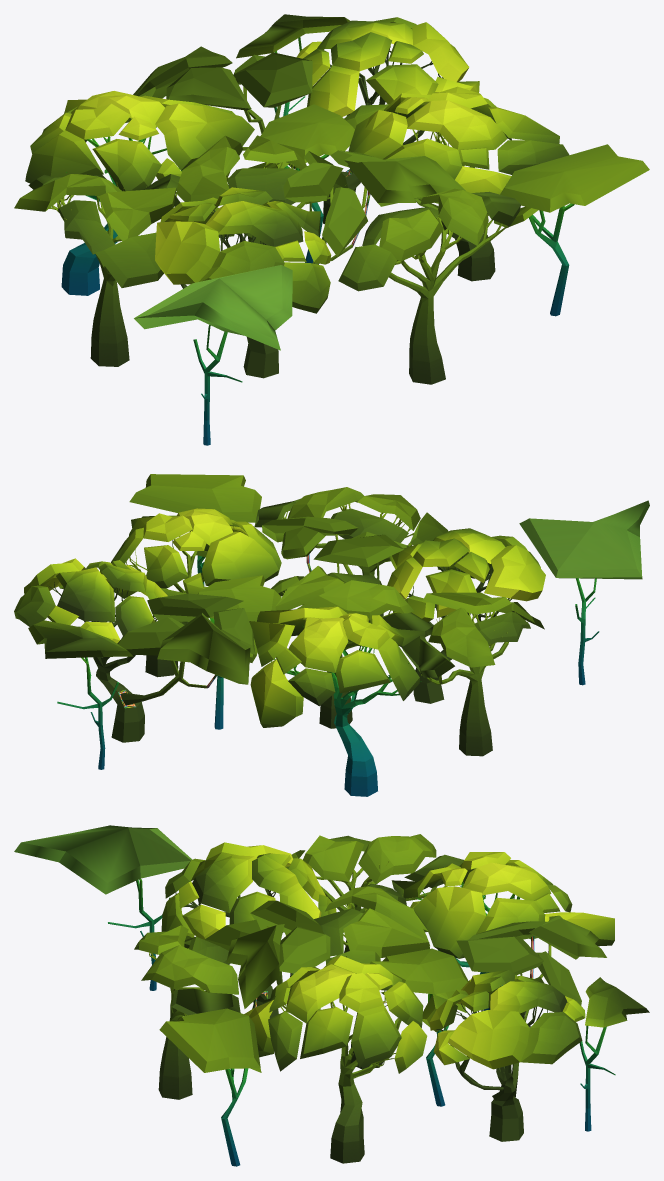
Rendered from Tree Cluster.fbx.
3 views of the same model, one above another, from view 1: azimuth 30°, elevation 25°; view 2: azimuth 150°, elevation 25°; view 3: azimuth 270°, elevation 25° (orthographic). The views are drawn at different scales.
Parts seen in each view (by area): view 1: leaves (×11), stam (×7), Stam; view 2: leaves (×11), stam (×10); view 3: leaves (×11), stam (×8), Stam.
Boxes of the visible parts, box(x1,y1,x2,y2) form: leaves (×11): box(14, 14, 649, 350); stam (×7): box(49, 46, 509, 445); Stam: box(529, 203, 574, 316); leaves (×11): box(14, 474, 649, 727); stam (×10): box(47, 503, 599, 796); leaves (×11): box(14, 825, 649, 1073); stam (×8): box(108, 861, 615, 1163); Stam: box(221, 1068, 248, 1166).
Bounding box in the file's own units: 20.35 × 6.7 × 22.53.
